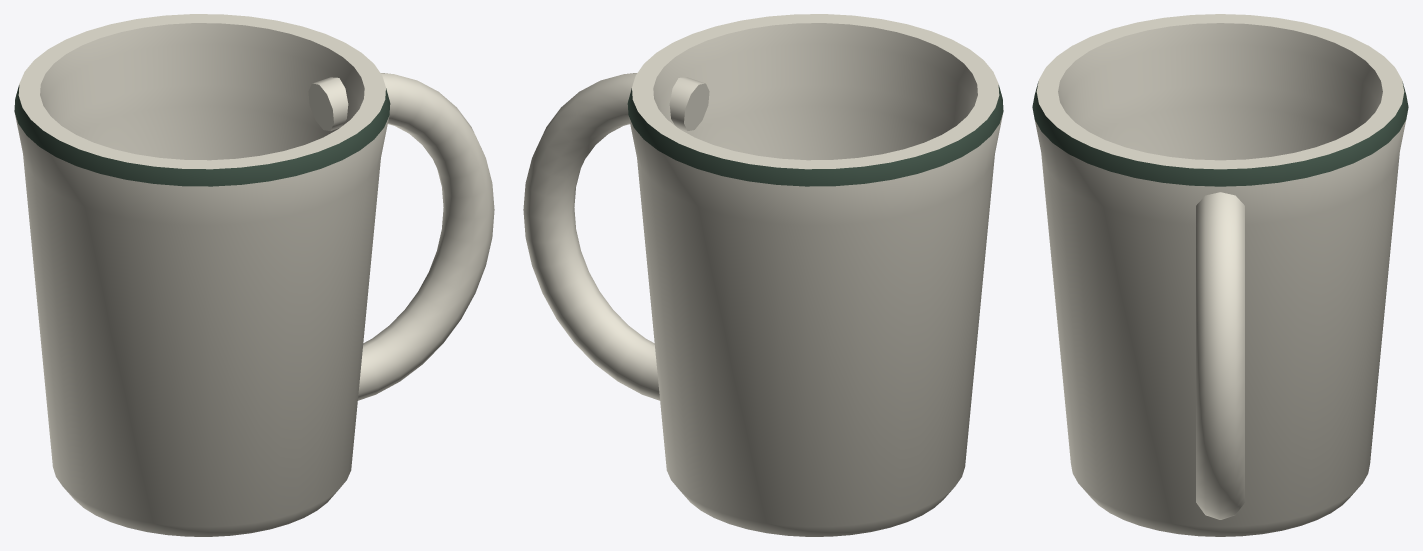
File: mug.glb
3 renders of one model, left to right at view 1: azimuth 30°, elevation 25°; view 2: azimuth 150°, elevation 25°; view 3: azimuth 270°, elevation 25°, orthographic.
Parts seen in each view (by area): view 1: Cup, Handle; view 2: Cup, Handle; view 3: Cup, Handle.
Boxes of the visible parts, box(x1,y1,x2,y2) form: Cup: box(14, 14, 390, 536); Handle: box(308, 73, 494, 400); Cup: box(627, 14, 1003, 536); Handle: box(523, 73, 709, 400); Cup: box(1032, 14, 1408, 536); Handle: box(1196, 192, 1244, 519).
Bounding box in the file's own units: 0.122 × 0.1 × 0.088.
